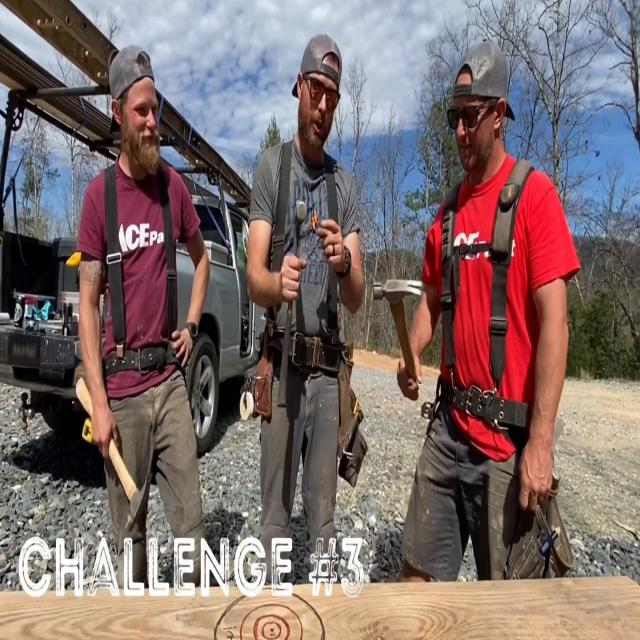hammer: (74, 374, 150, 536), (274, 195, 309, 412), (372, 275, 426, 402)
